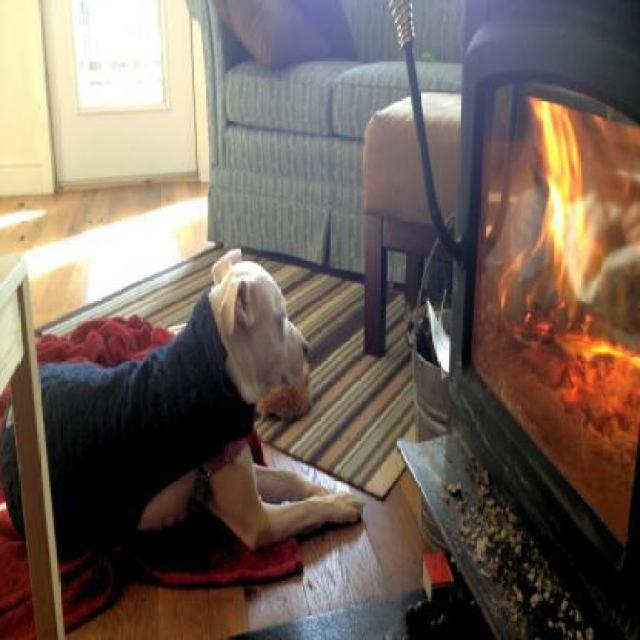Fire: (538, 95, 592, 288), (562, 328, 638, 442), (532, 320, 554, 338), (584, 310, 596, 324)
